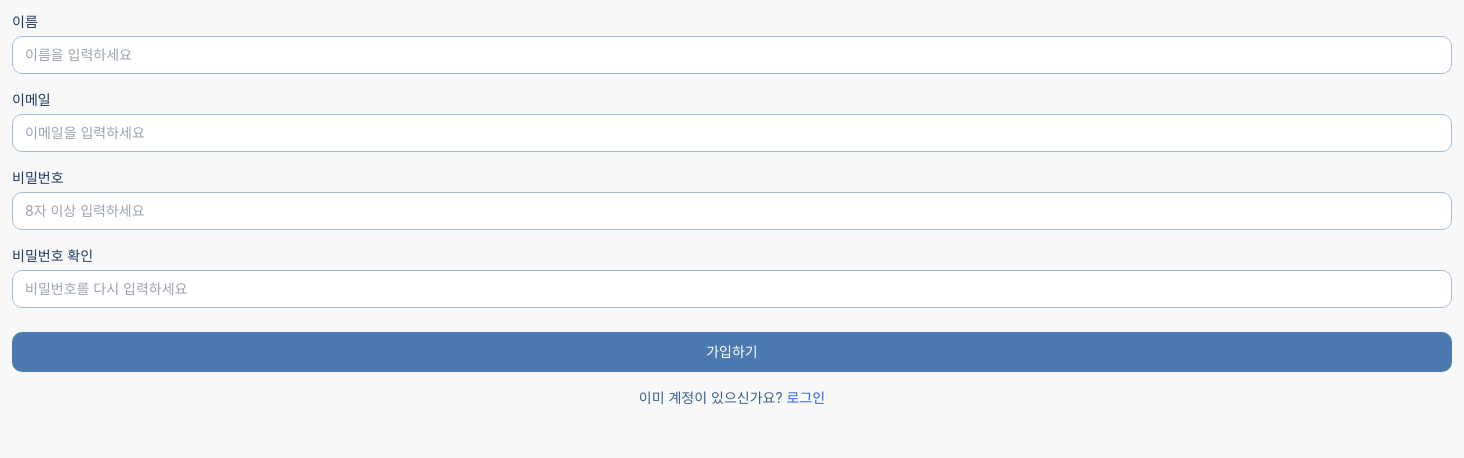
Test: SignupForm › API 에러 처리 › VALIDATION_ERROR 에러 시 폼 레벨 에러 메시지를 표시한다
Type "홍길동" into the field labelled "이름".
click(732, 55); type("홍길동")  # box [12,36,1452,74]
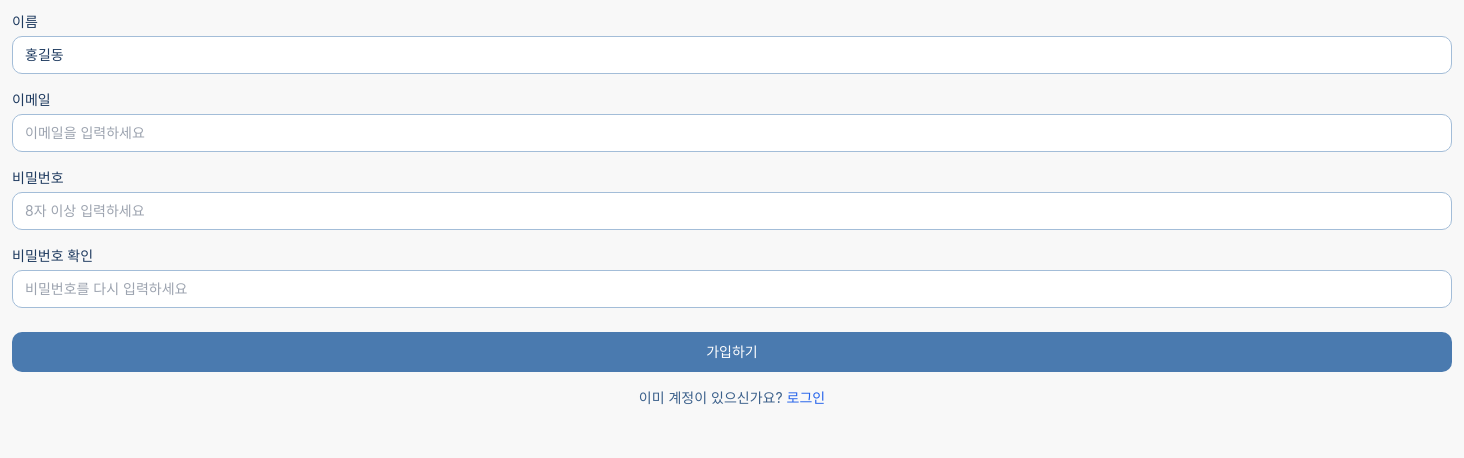
Type "test@test.com" into the field labelled "이메일".
click(732, 133); type("test@test.com")  # box [12,114,1452,152]
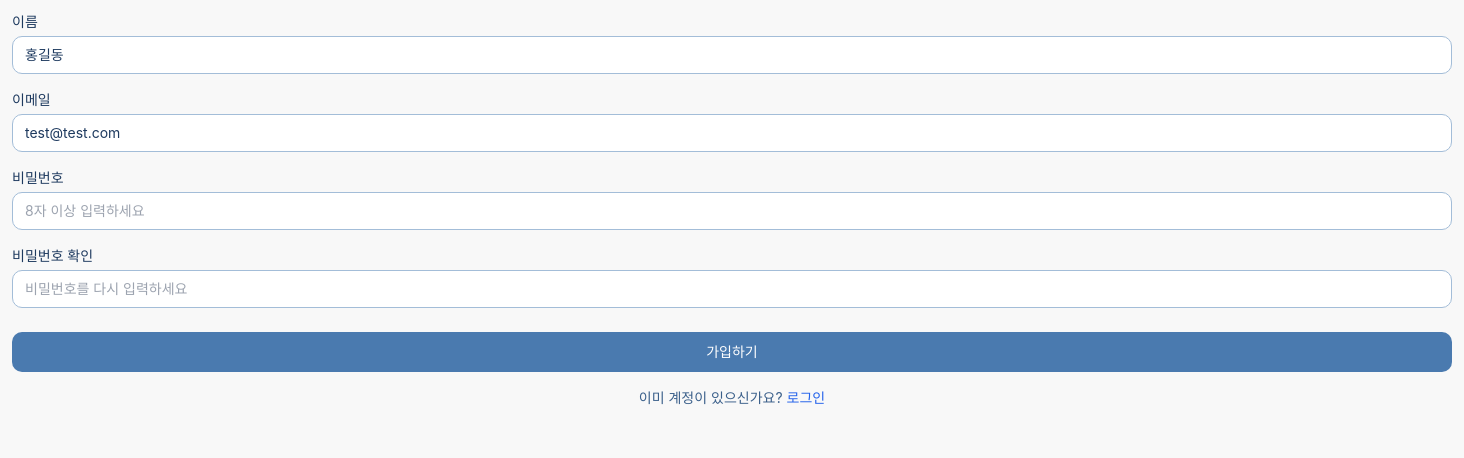
Type "password123" into the password field labelled "비밀번호".
click(732, 211); type("password123")  # box [12,192,1452,230]
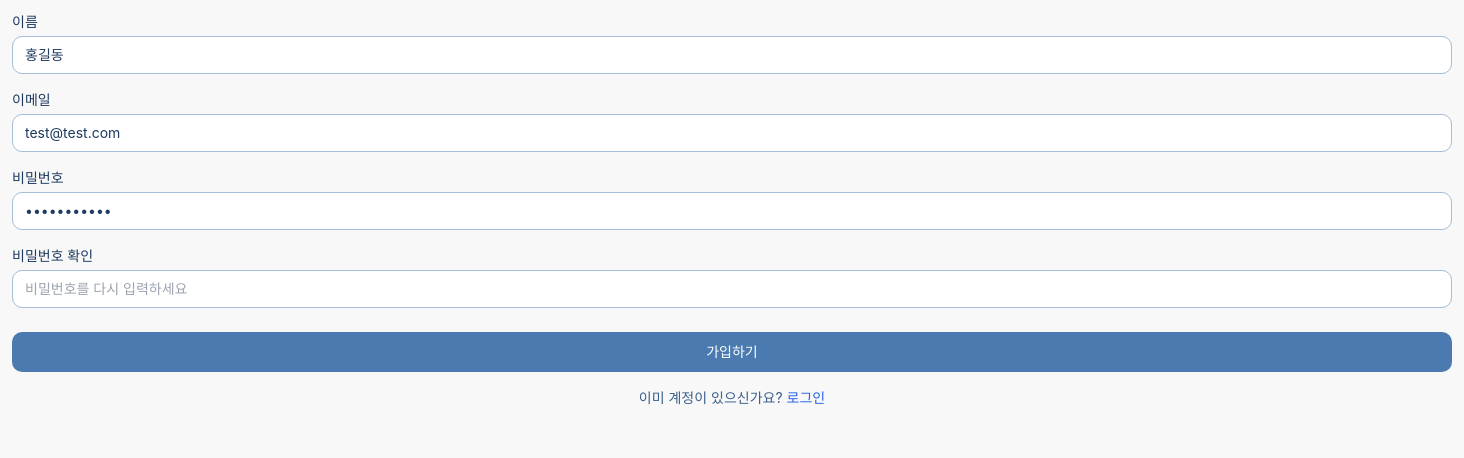
Type "password123" into the password field labelled "비밀번호 확인".
click(732, 289); type("password123")  # box [12,270,1452,308]
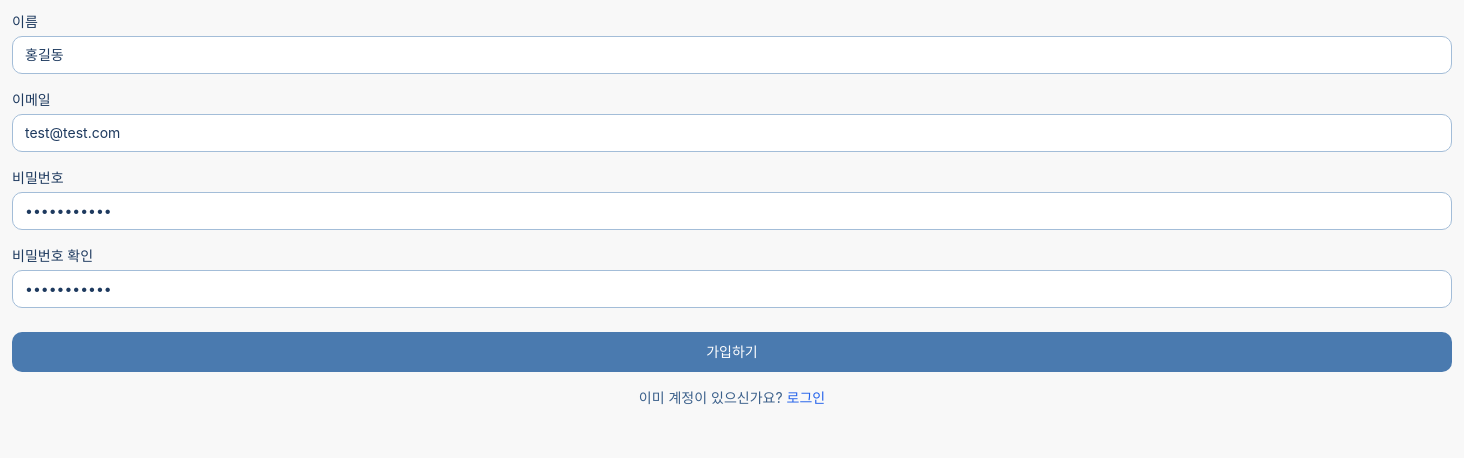
Click the button "가입하기".
click(732, 352)  # box [12,332,1452,372]
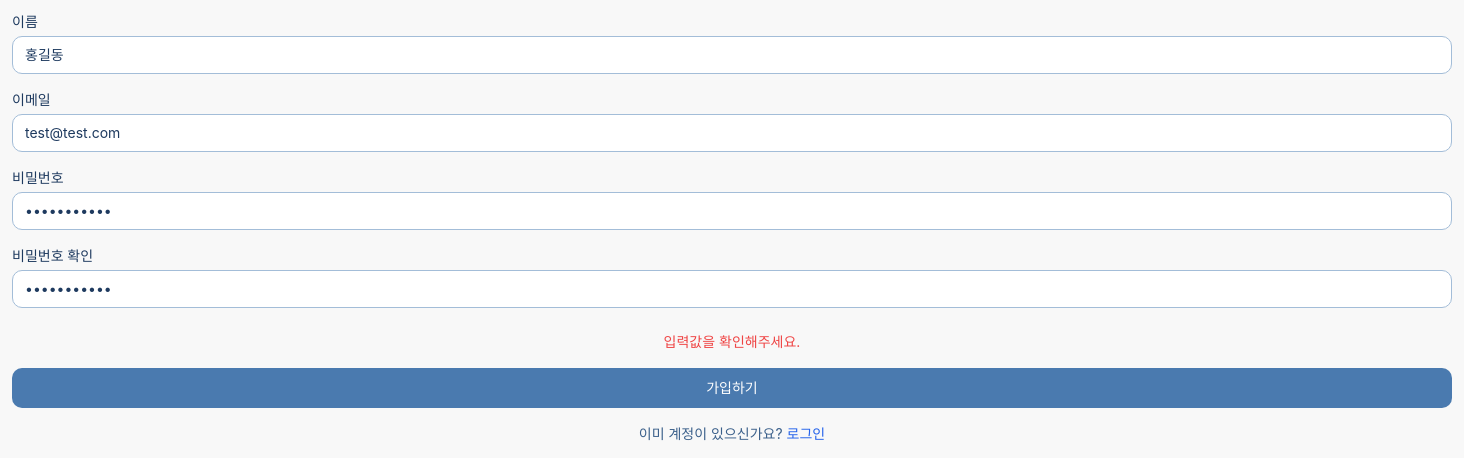
Expected: the text "입력값을 확인해주세요." is shown, [664,333,800,350]
